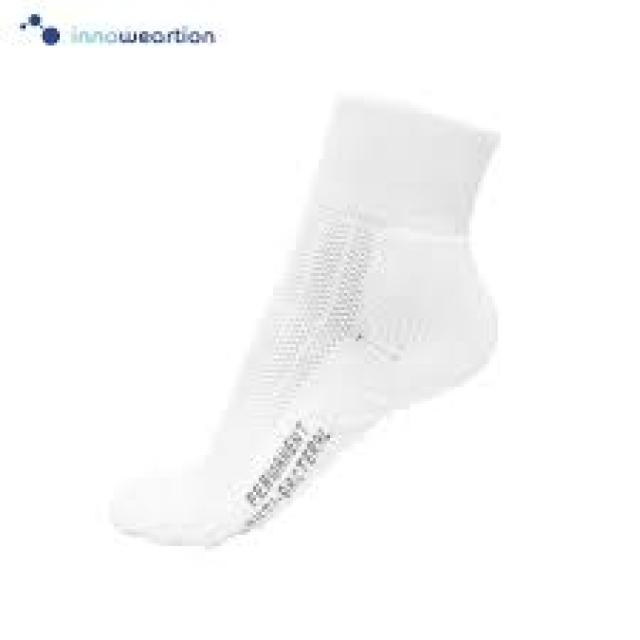sock: (108, 91, 501, 546)
